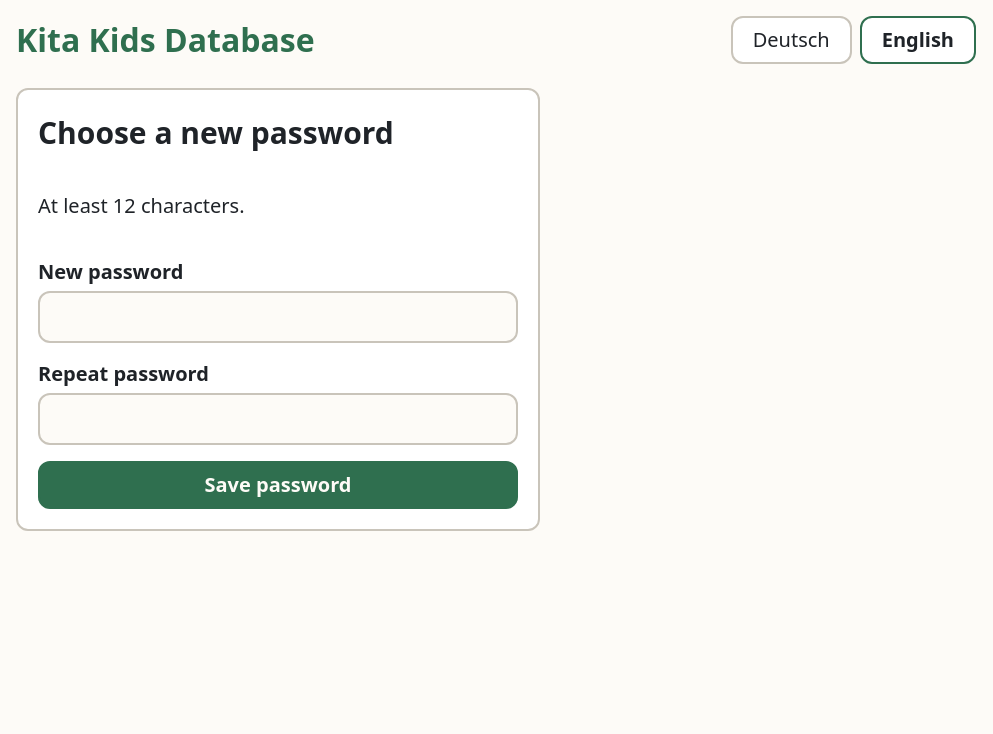
Test: forgotten password › offers a new link when the reset link is no longer valid
Type "a brand new password" into the password field labelled "New password". click: (278, 317)
box: [38, 291, 518, 343]
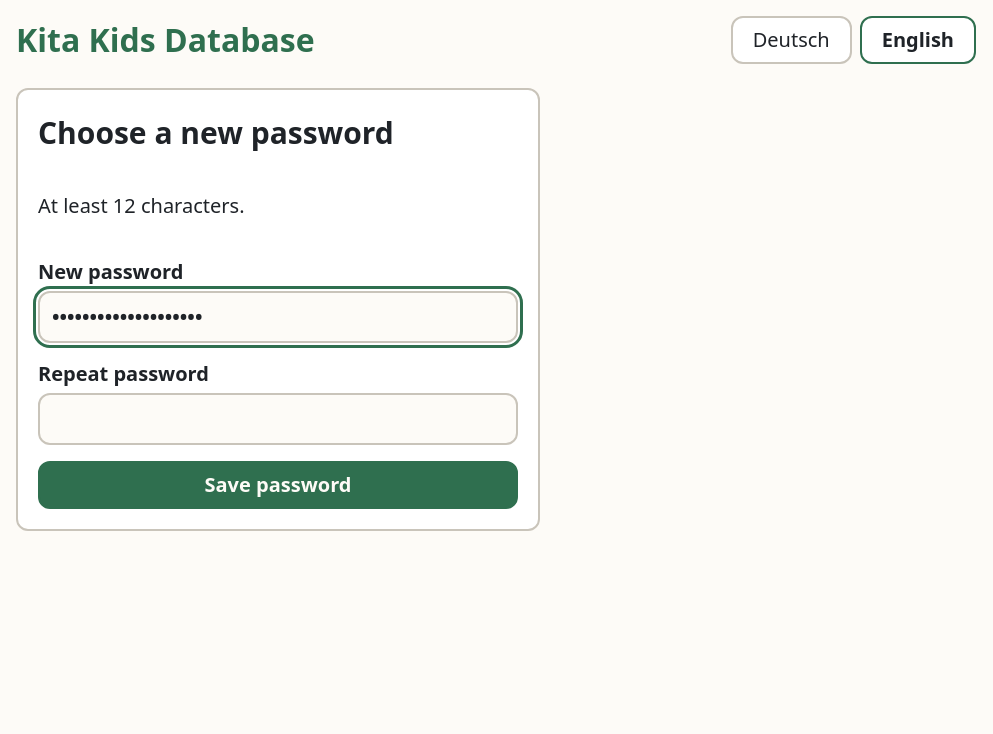
Type "a brand new password" into the password field labelled "Repeat password". click: (278, 419)
box: [38, 393, 518, 445]
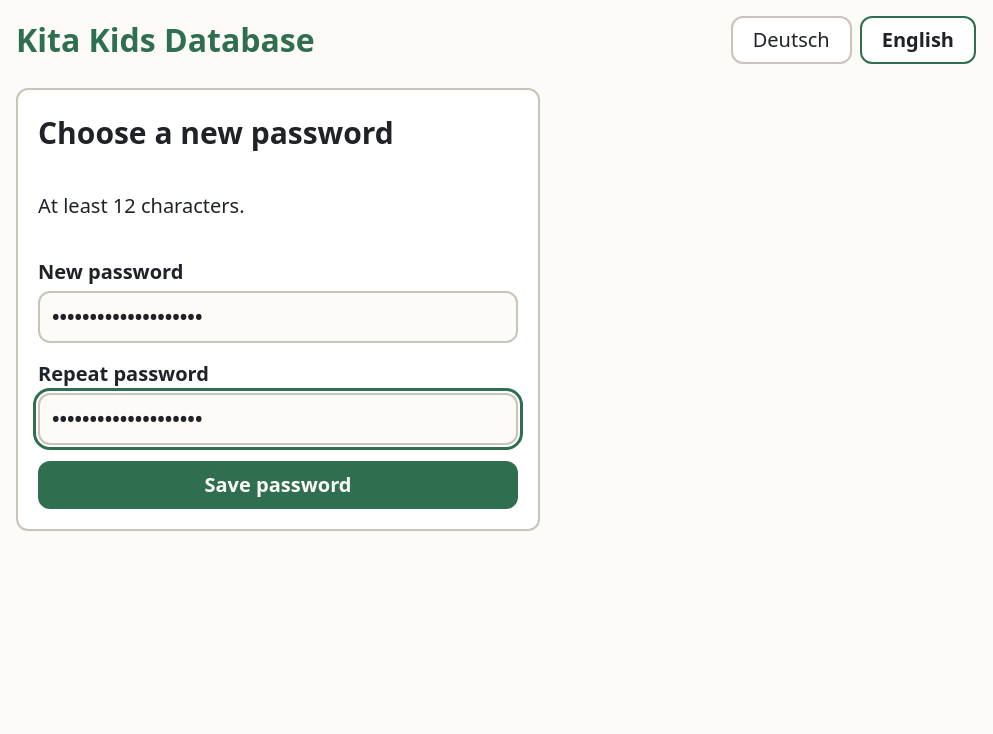
Click the button "Save password". click: (278, 485)
box: [38, 461, 518, 509]
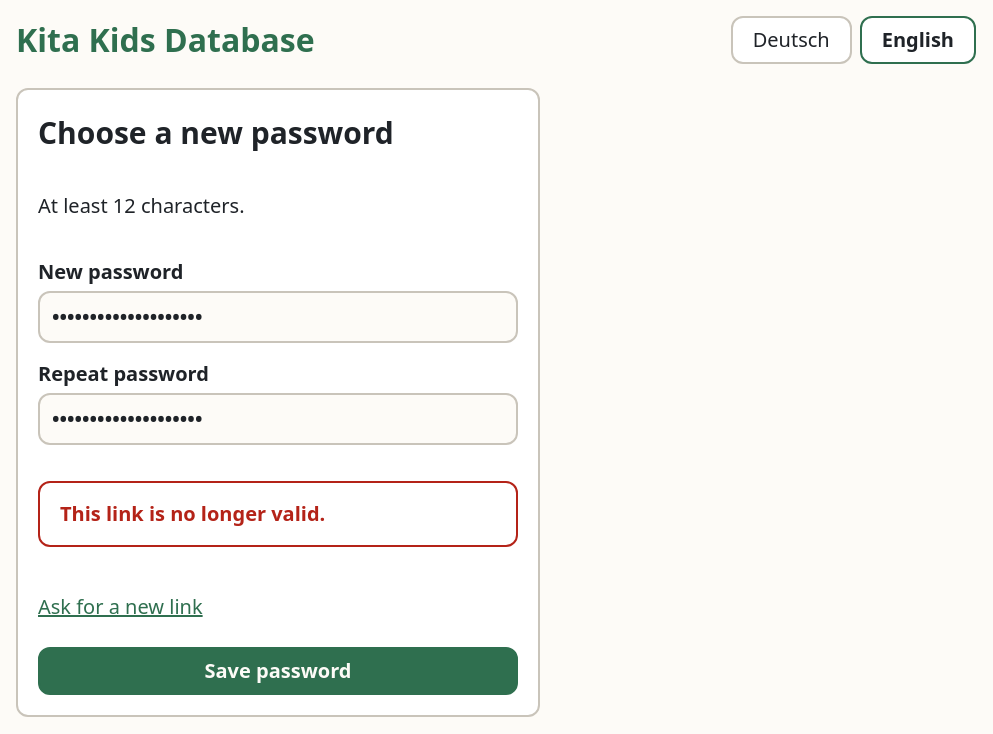
Now the message reads "This link is no longer valid.", box [60, 500, 325, 527]
Click the link "Ask for a new link". click: (120, 606)
box: [38, 593, 203, 620]
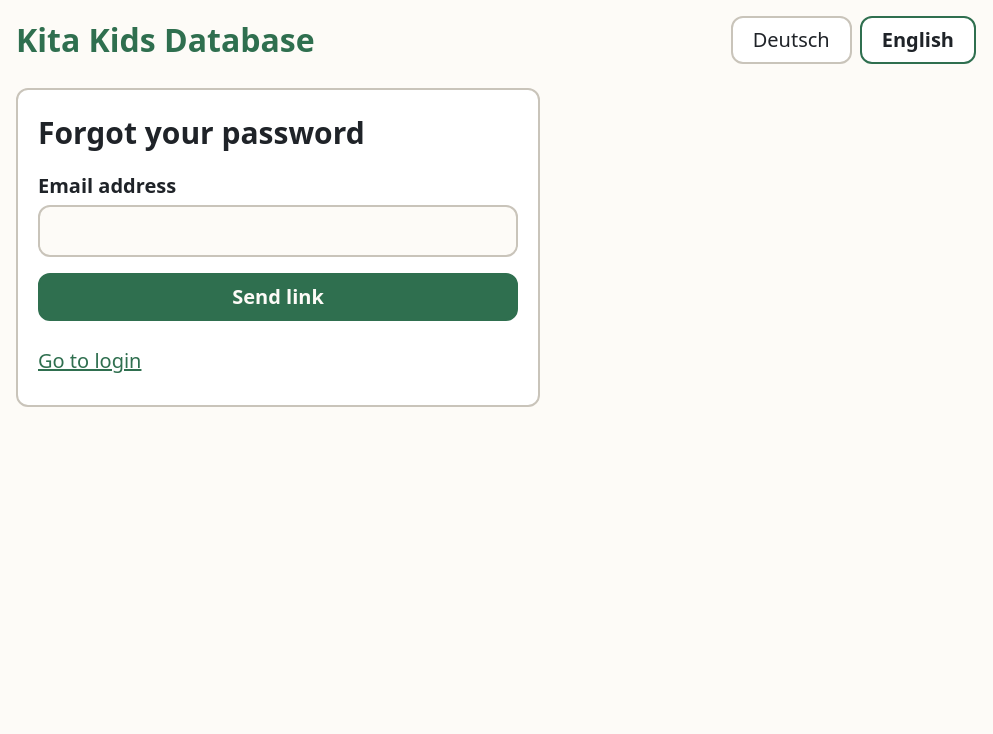
Now the button "Send link" is shown, box [38, 273, 518, 321]
